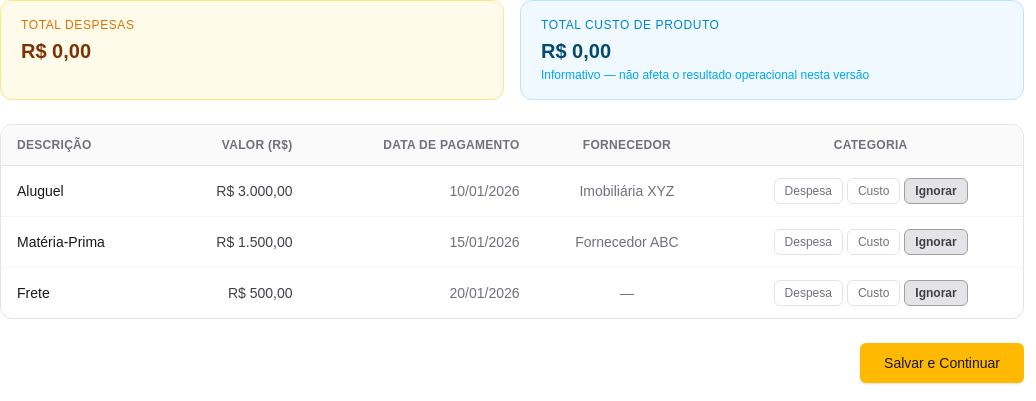
Test case: PaidAccountsList › real-time totals (AC: 4) › updates Despesas total in real-time when category is changed to Despesa
Click the radio button with aria-label "Despesa" at [808, 191], box [774, 178, 843, 204]
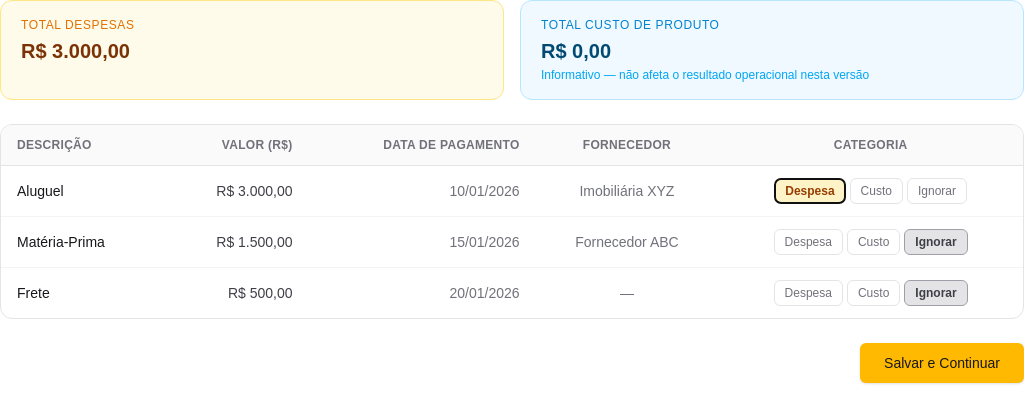
Now the text named "Total despesas:" shows "3.000", box [21, 40, 130, 62]
